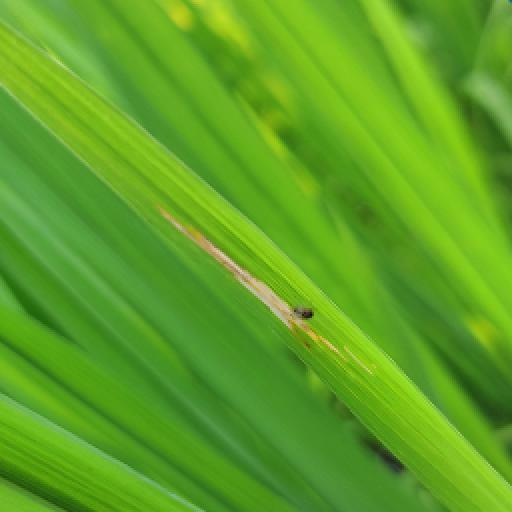Bacterial Leaf Blight: (150, 198, 352, 368)
